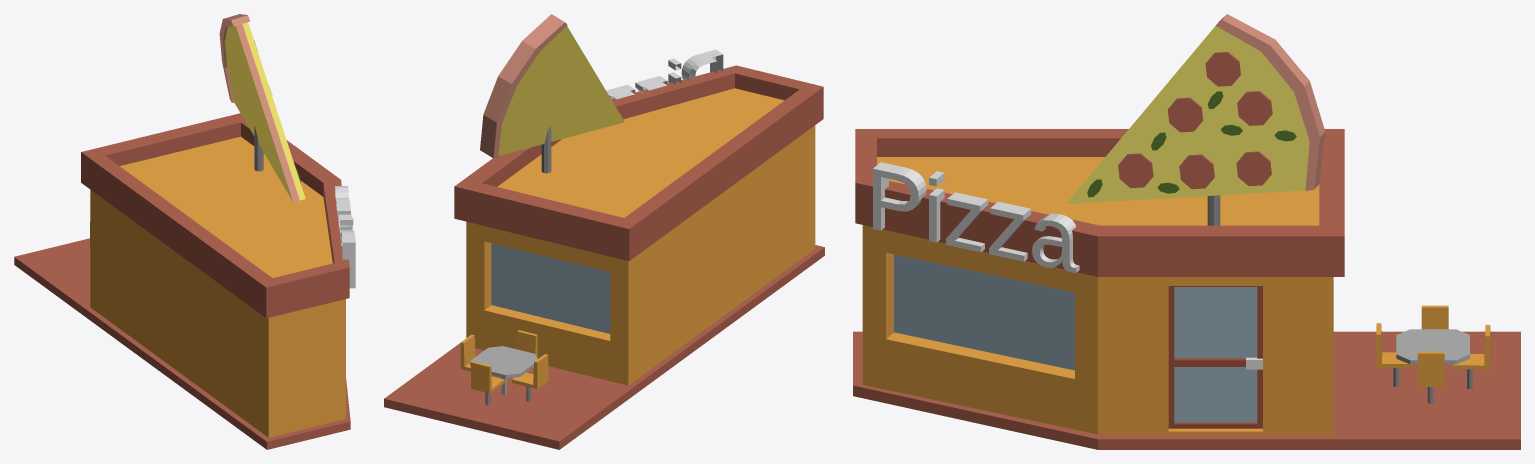
Rendered from pizza.glb.
3 views of the same model, side by side, from view 1: azimuth 30°, elevation 25°; view 2: azimuth 150°, elevation 25°; view 3: azimuth 270°, elevation 25° (orthographic). The views are drawn at different scales.
Visible parts, largest first — view 1: pizza; view 2: pizza; view 3: pizza.
Boxes of the visible parts, left/top/right/bottom form: pizza: left=14, top=14, right=355, bottom=449; pizza: left=384, top=14, right=824, bottom=449; pizza: left=853, top=14, right=1520, bottom=449.
Size of the model in its own units: 2.87 by 4.98 by 7.53.
Materials: 1 (1 with a texture image).
